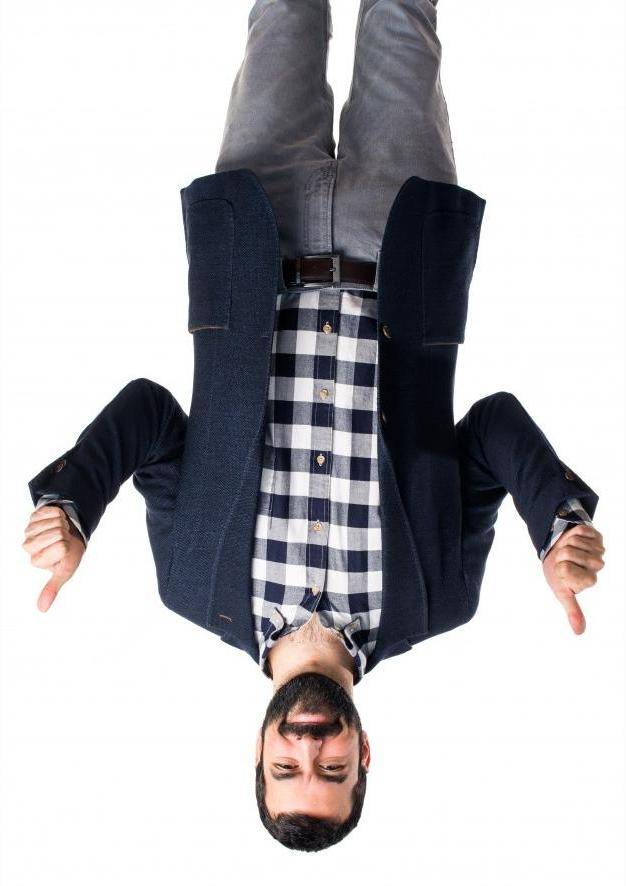thumbsdown: (555, 525, 605, 636), (23, 507, 73, 613)
